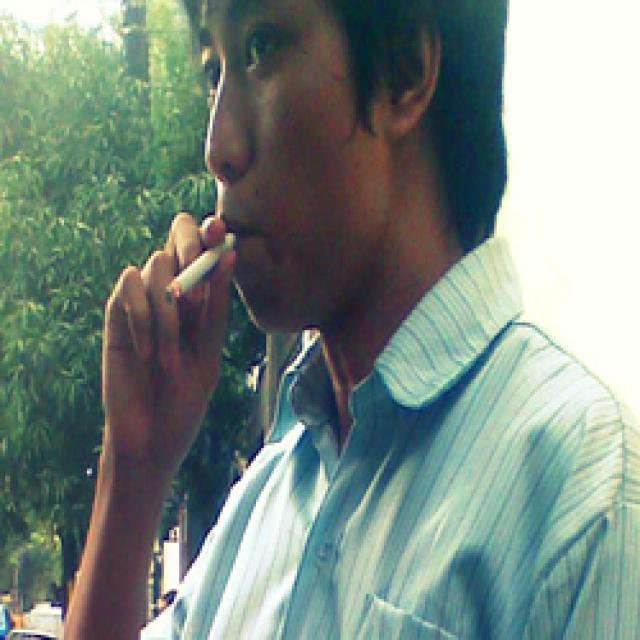Smooking: (161, 232, 258, 300)
